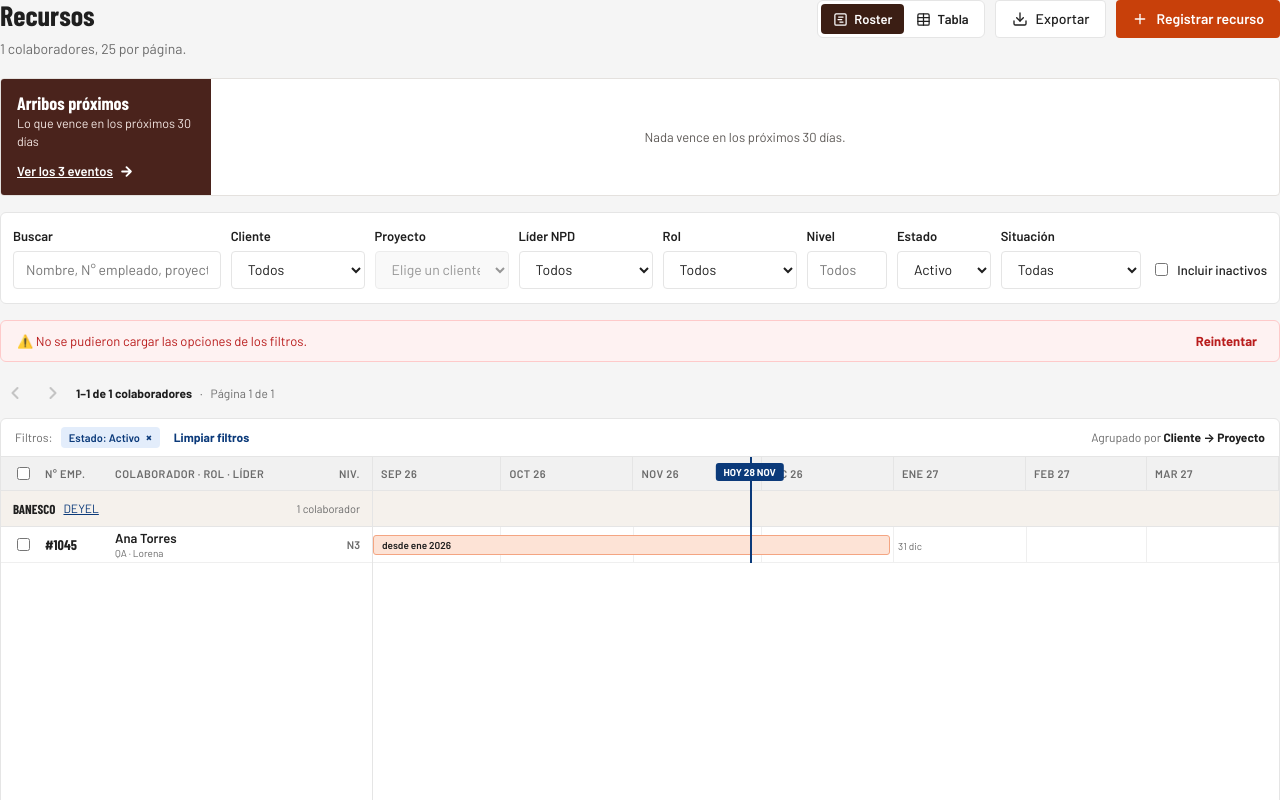
it: ResourcesPage · BUG-02 visible errors › warns when the filter options cannot be loaded and retries them
expect the message shows "No se pudieron cargar las opciones de los filtros.": met, box [36,333,307,349]
Click the button "Reintentar" at (1226, 341), box [1190,331,1263,351]
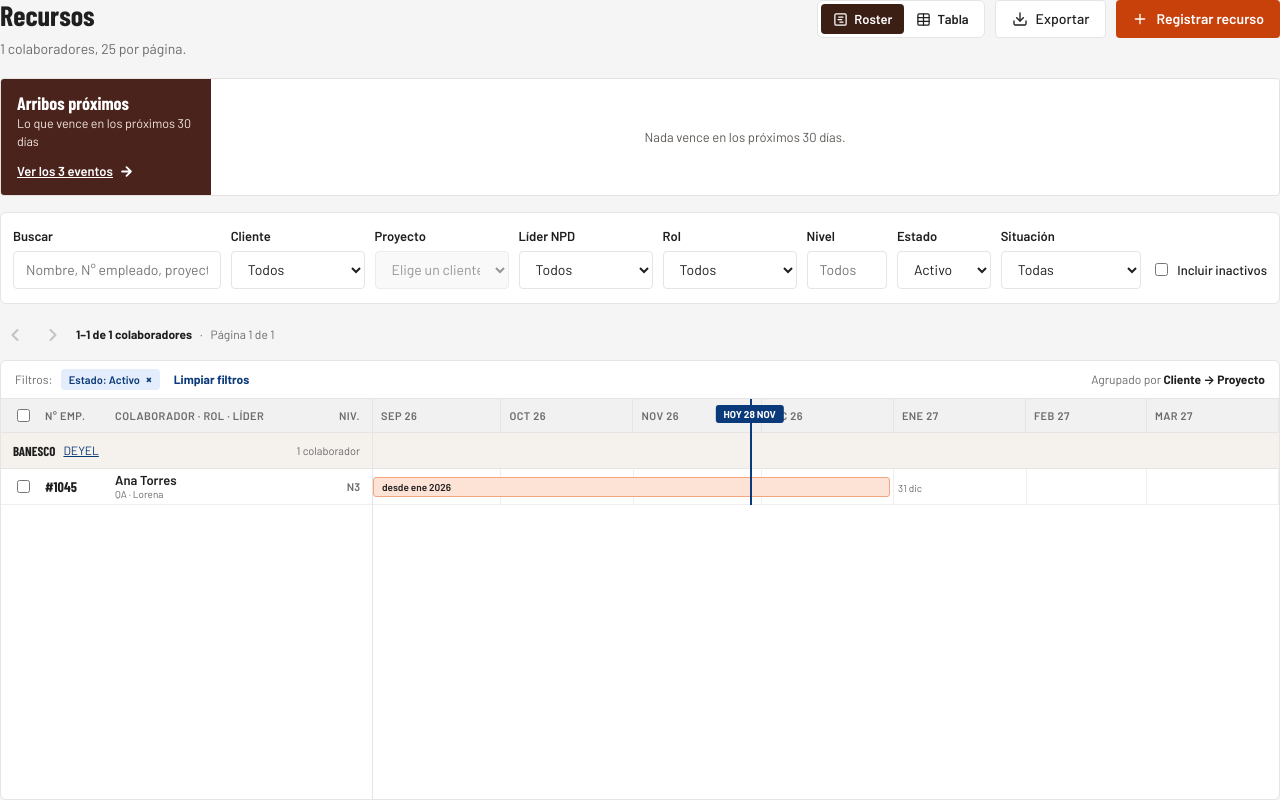
expect the message "⚠️ No se pudieron cargar las opciones de los filtros. Reintentar" is gone: met
